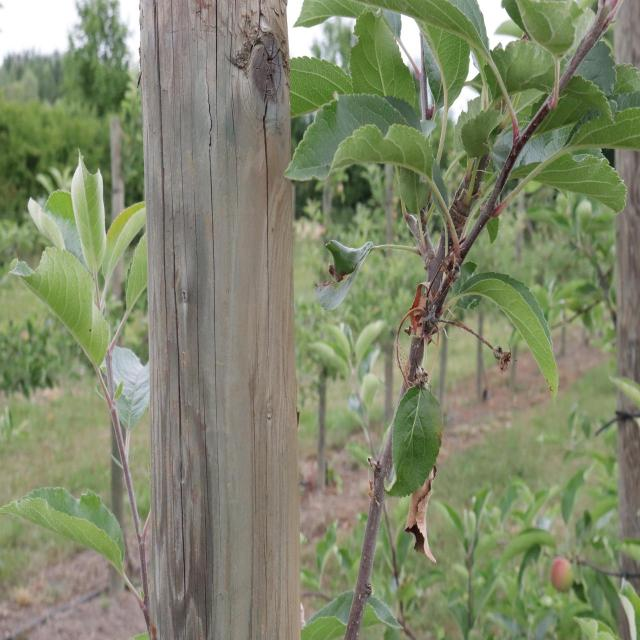-FireBlight-: (403, 440, 440, 565), (409, 271, 455, 346)
